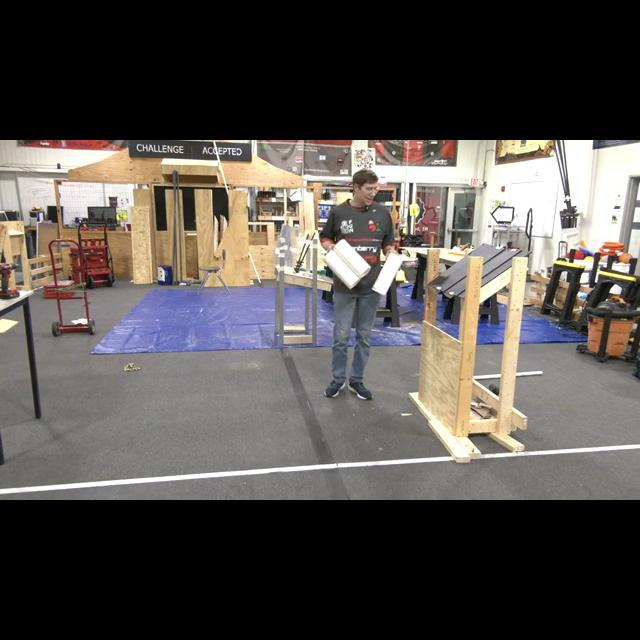CORAL: (324, 250, 361, 290), (332, 240, 370, 278), (371, 252, 403, 294)
